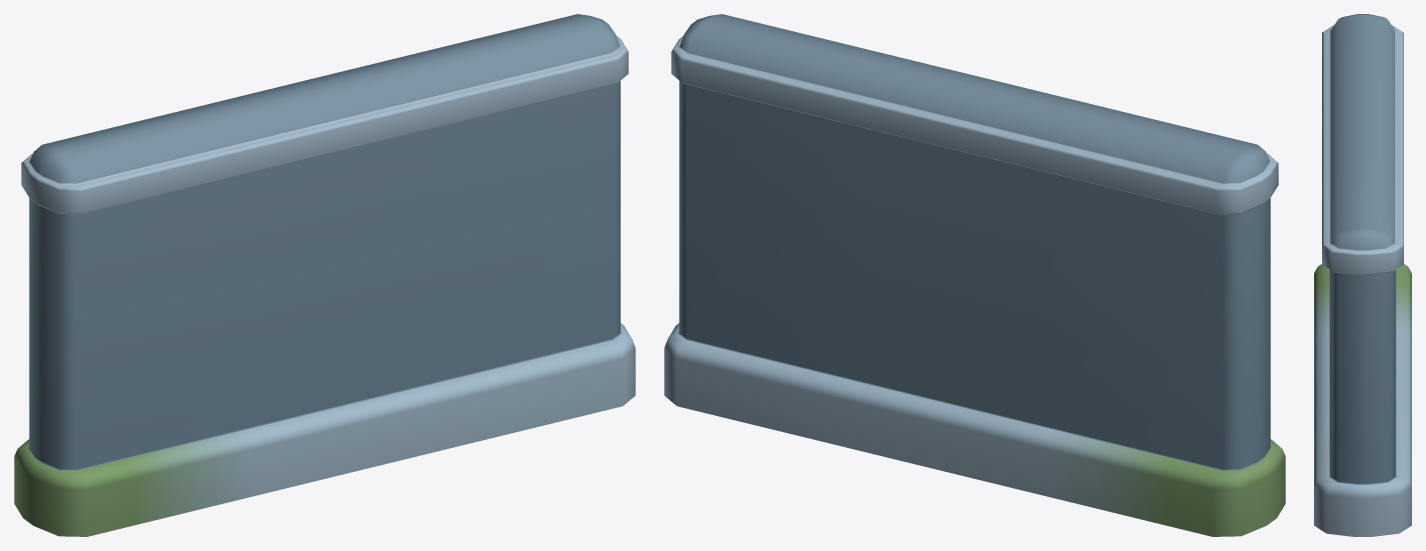
The model's file is Env1_Wall_Red.fbx.
3 renders of one model, left to right at view 1: azimuth 30°, elevation 25°; view 2: azimuth 150°, elevation 25°; view 3: azimuth 270°, elevation 25°, orthographic. The views are drawn at different scales.
Visible parts, largest first — view 1: Env1_Wall; view 2: Env1_Wall; view 3: Env1_Wall.
Boxes of the visible parts, bbox=[...] form: Env1_Wall: bbox=[14, 14, 635, 536]; Env1_Wall: bbox=[664, 14, 1285, 536]; Env1_Wall: bbox=[1314, 14, 1411, 536].
Size of the model in its own units: 332 by 195 by 58.24.
